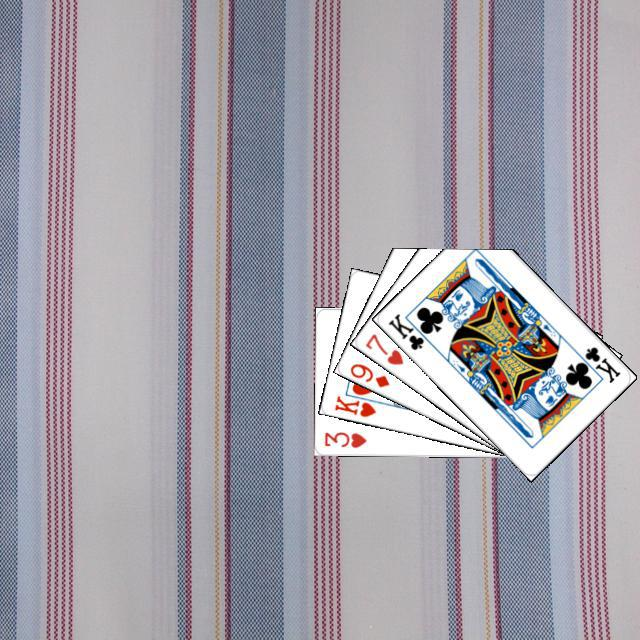3h: (319, 427, 368, 449)
7h: (360, 328, 405, 367)
9d: (345, 358, 391, 389)
Kc: (383, 308, 434, 352), (571, 342, 622, 385)
Kh: (329, 387, 384, 419)
